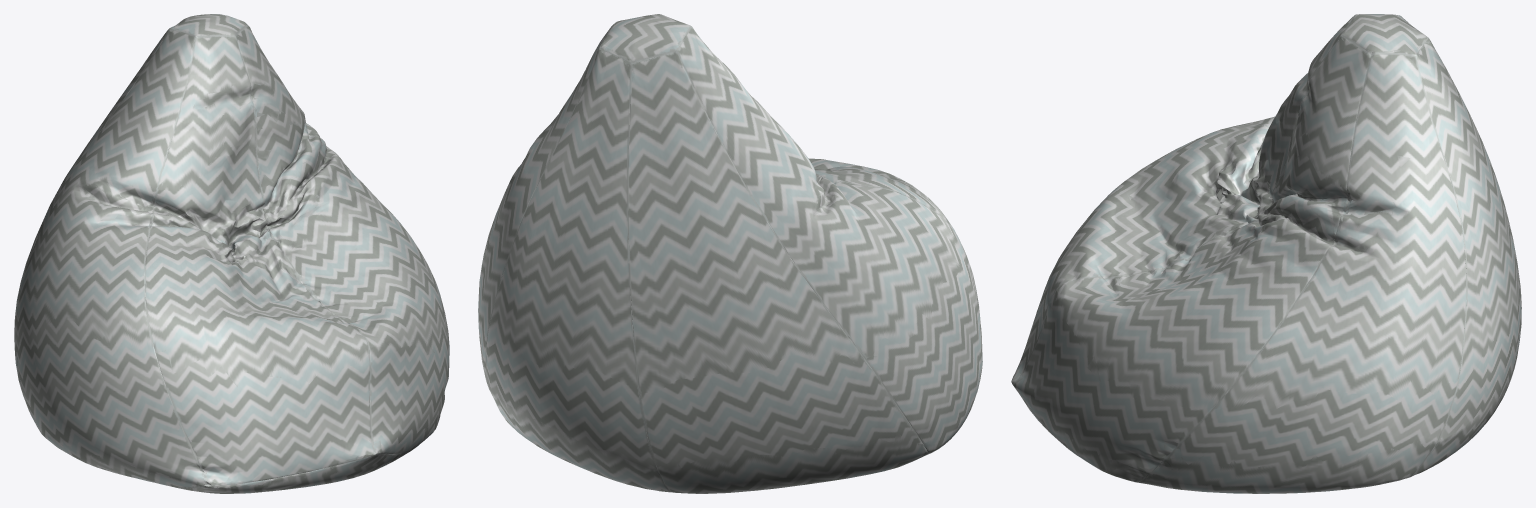
Rendered from raw_model.obj.
3 views of the same model, side by side, from view 1: azimuth 30°, elevation 25°; view 2: azimuth 150°, elevation 25°; view 3: azimuth 270°, elevation 25° (orthographic). The views are drawn at different scales.
Parts seen in each view (by area): view 1: solid_001; view 2: solid_001; view 3: solid_001.
Part boxes in pixels (x1,y1,x2,y2): solid_001: (14,14,449,493); solid_001: (478,14,982,493); solid_001: (1011,14,1521,493).
Size of the model in its own units: 1.07 by 0.9571 by 1.12.
Materials: 1 (1 with a texture image).
